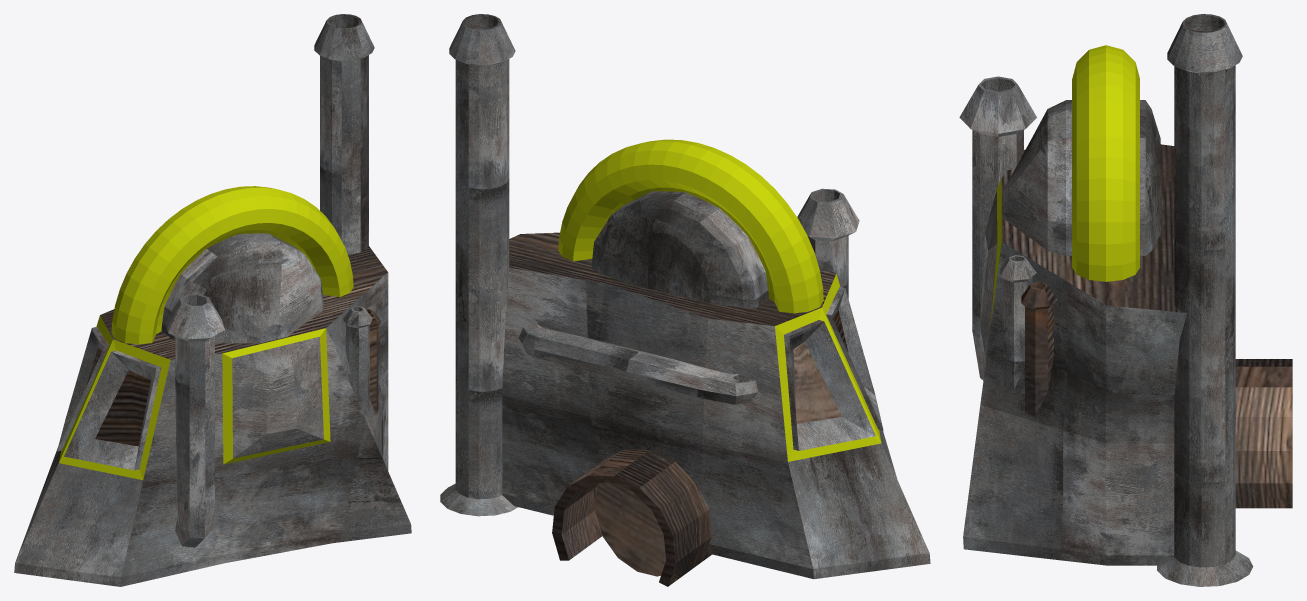
File: central.fbx
3 views of the same model, side by side, from view 1: azimuth 30°, elevation 25°; view 2: azimuth 150°, elevation 25°; view 3: azimuth 270°, elevation 25° (orthographic). The views are drawn at different scales.
Parts seen in each view (by area): view 1: Cube; view 2: Cube; view 3: Cube.
Boxes of the visible parts, box(x1,y1,x2,y2) form: Cube: box(14, 14, 411, 586); Cube: box(440, 14, 930, 586); Cube: box(959, 14, 1292, 586).
Size of the model in its own units: 428 by 469 by 245.
